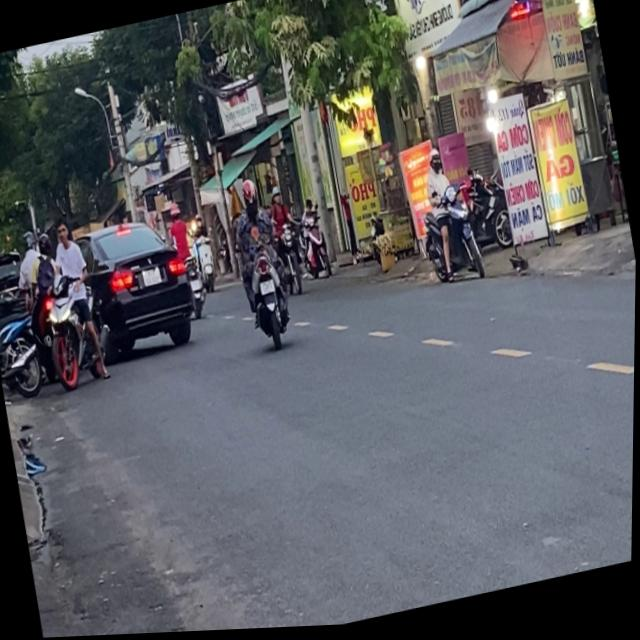helmet: (239, 177, 260, 210), (427, 149, 444, 178)
licenseplate: (224, 172, 299, 354), (406, 142, 489, 294)
nohelmet: (258, 279, 275, 296)
